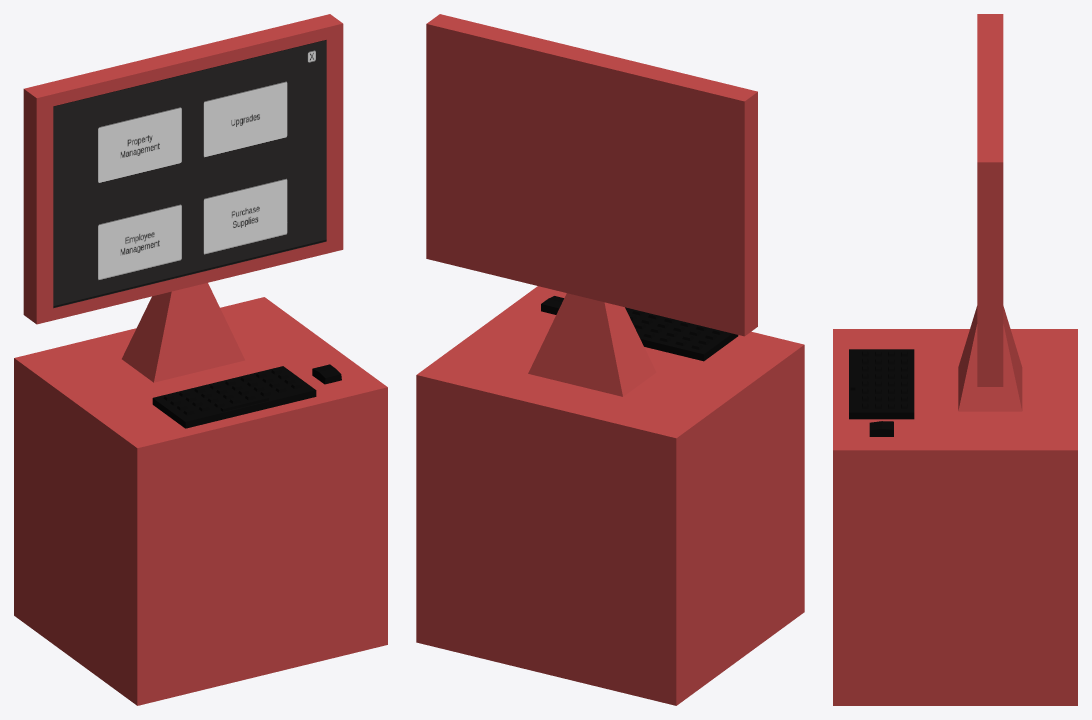
Rendered from managementTerminal.fbx.
The picture shows the model from 3 angles, left to right: view 1: azimuth 30°, elevation 25°; view 2: azimuth 150°, elevation 25°; view 3: azimuth 270°, elevation 25°; orthographic projection. The views are drawn at different scales.
Parts seen in each view (by area): view 1: Terminal; view 2: Terminal; view 3: Terminal.
Part boxes in pixels (x1=…): Terminal: x1=14, y1=14, x2=387, y2=705; Terminal: x1=416, y1=14, x2=804, y2=705; Terminal: x1=833, y1=14, x2=1077, y2=705.
Size of the model in its own units: 238 by 417 by 166.
3 materials, 1 textured.
